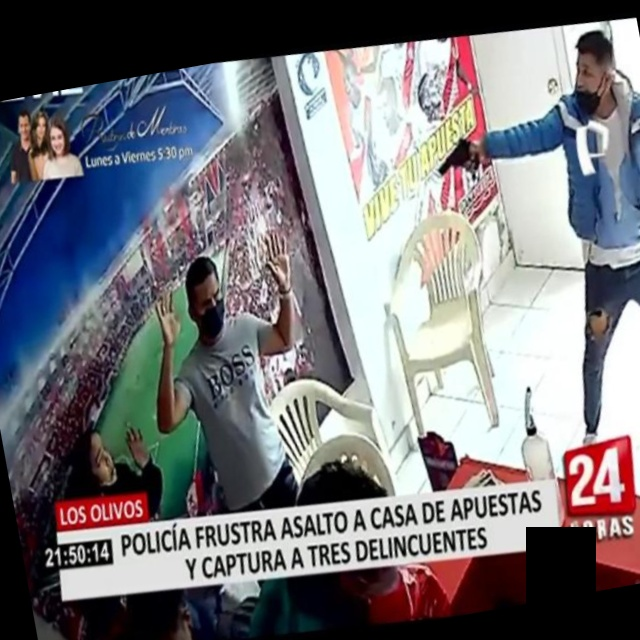gun: (419, 122, 490, 203)
